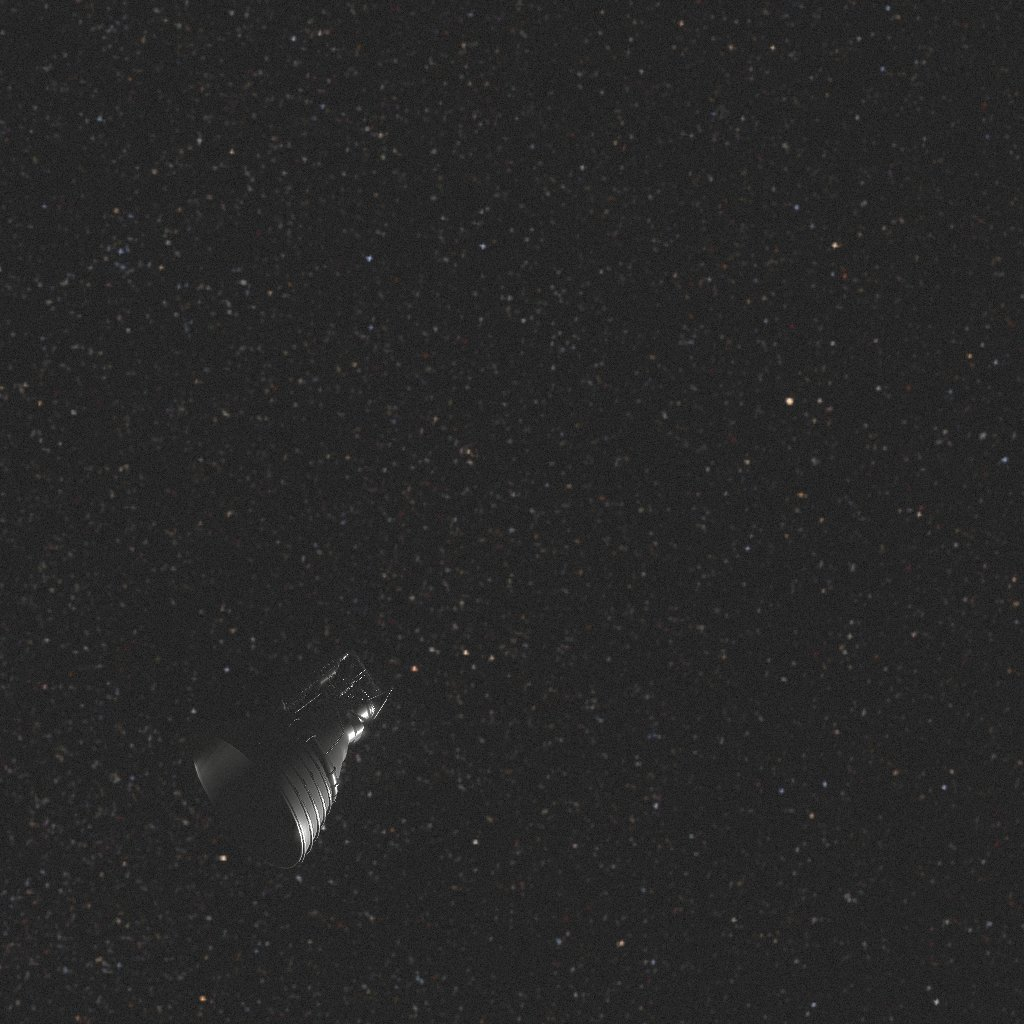debris: (193, 662, 372, 853)
